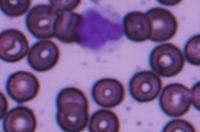M: (76, 5, 125, 54)
